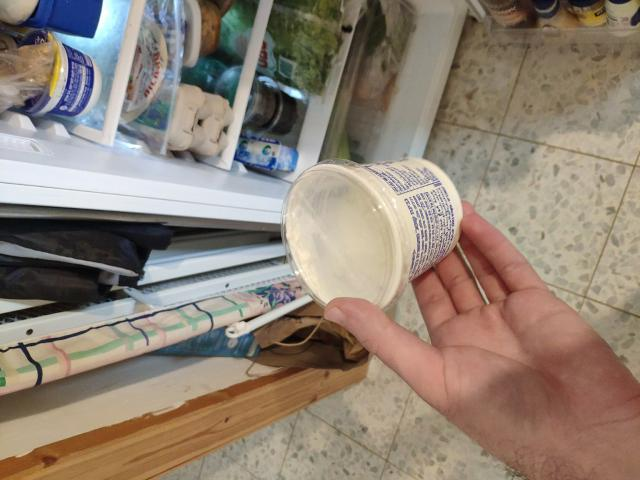cotage: (281, 172, 466, 309)
